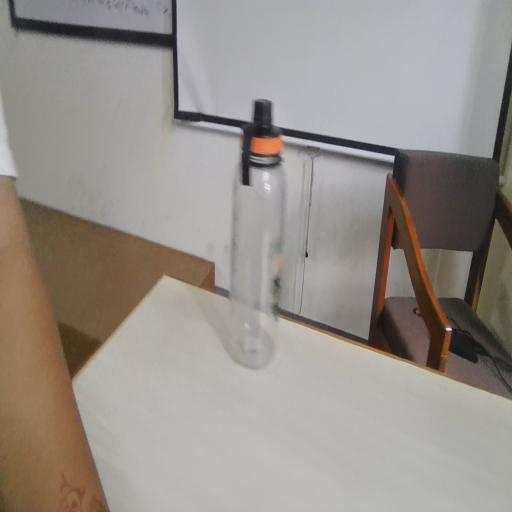Bottle: (213, 81, 285, 395)
